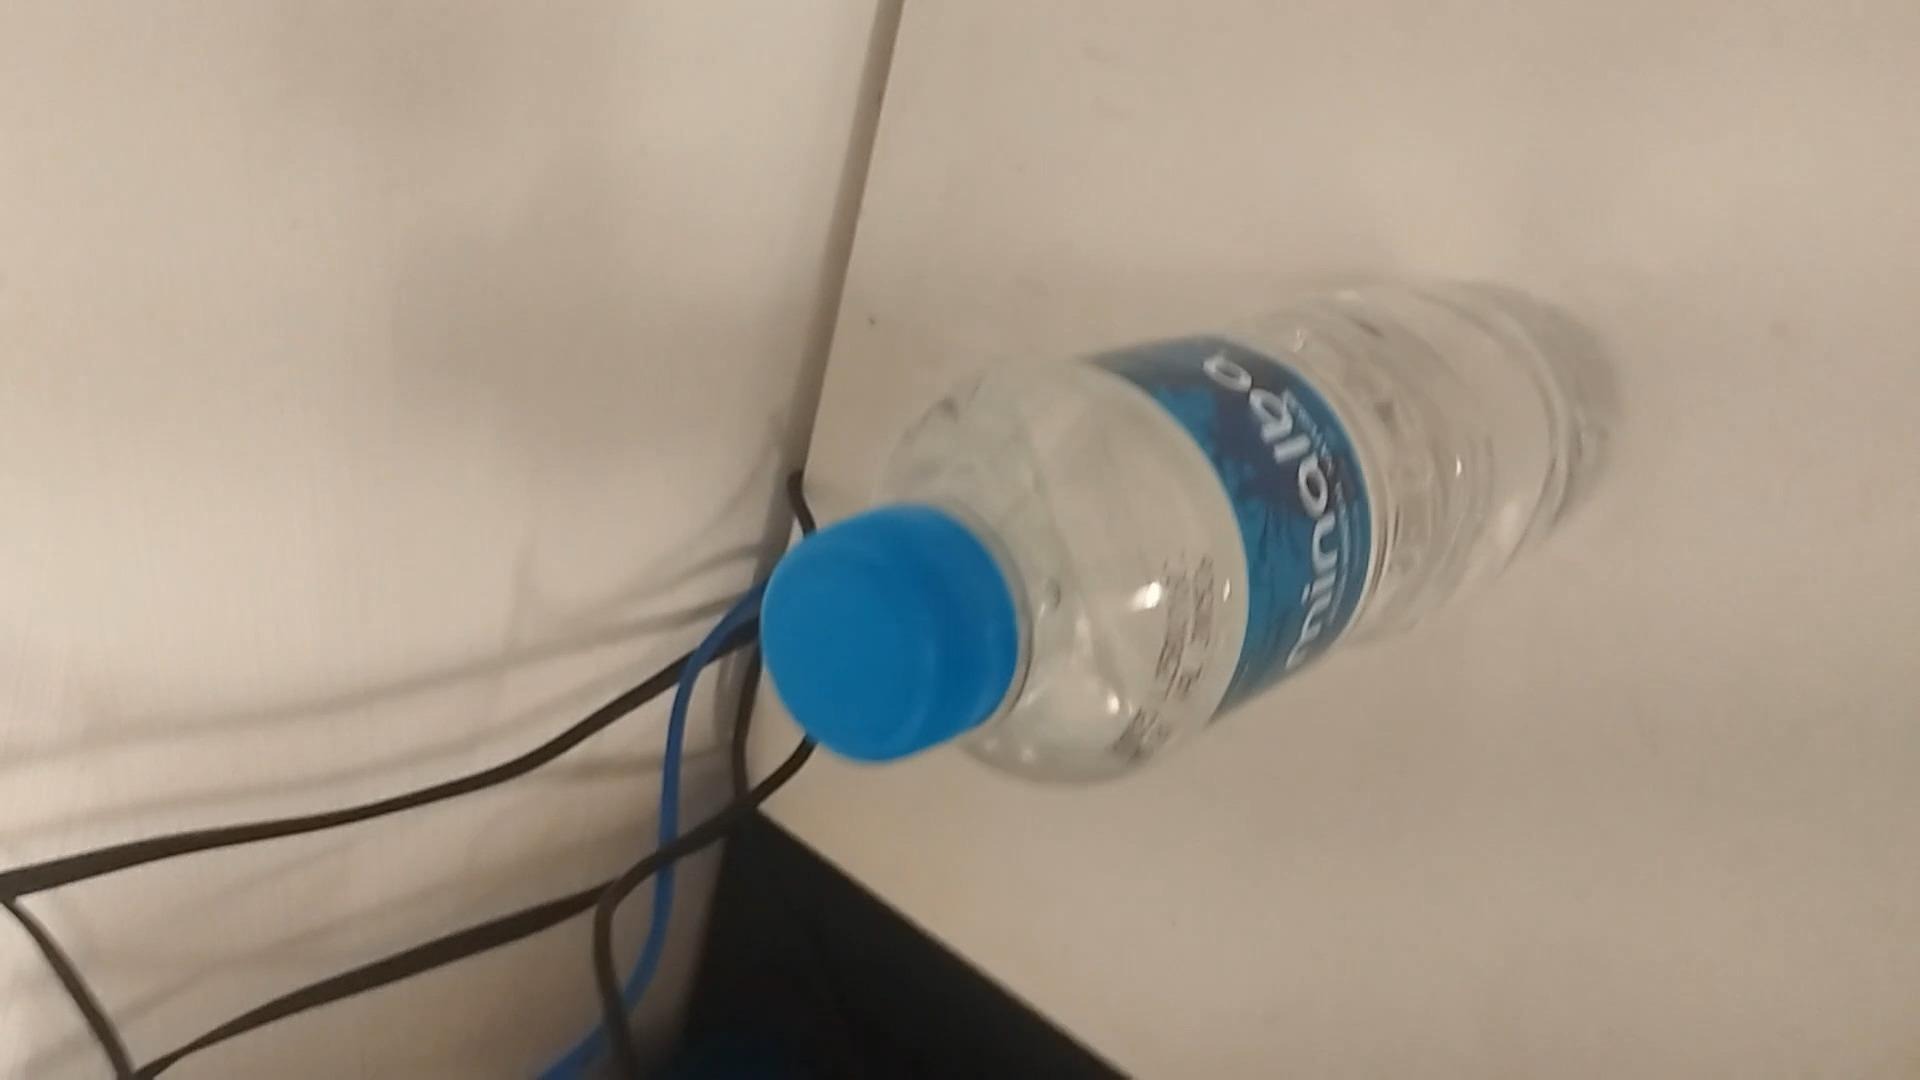agua: (779, 280, 1598, 785)
